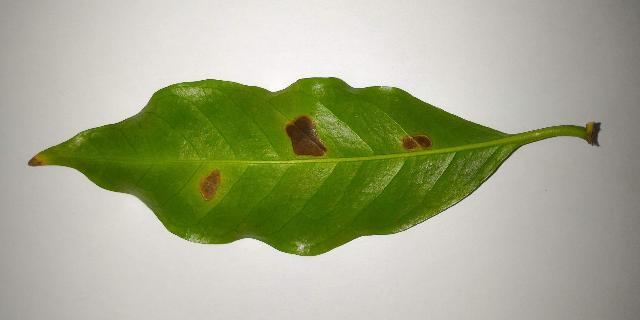cercospora: (284, 115, 327, 157), (198, 169, 221, 201), (402, 134, 432, 151), (28, 151, 51, 166)
